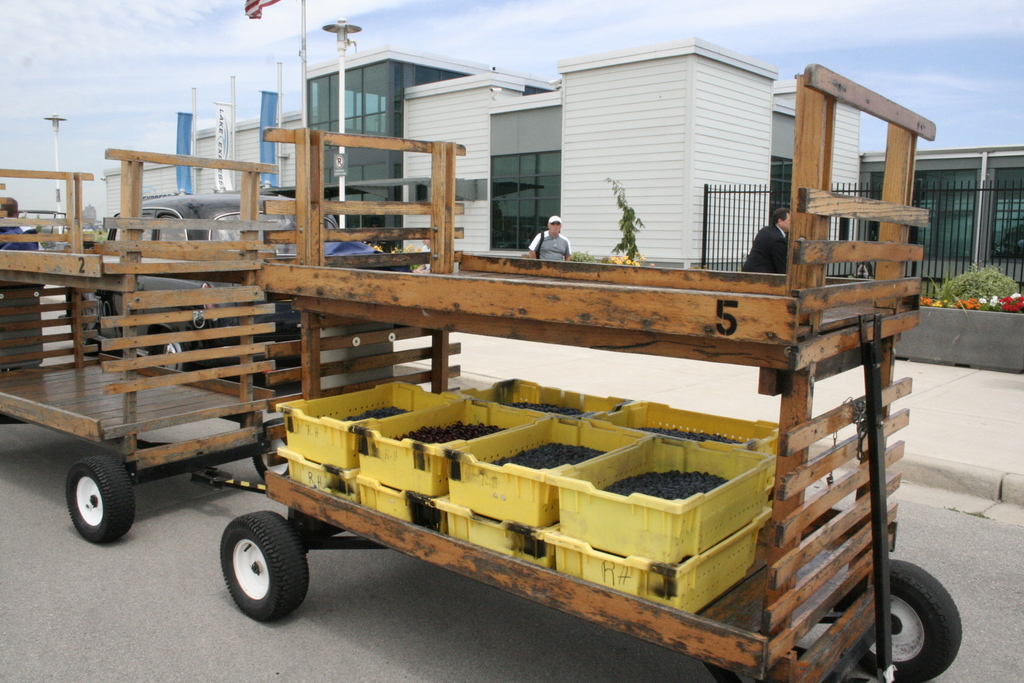Wheel: (831, 559, 966, 682), (218, 509, 306, 621), (63, 457, 136, 543), (252, 434, 292, 480), (159, 339, 188, 372)
